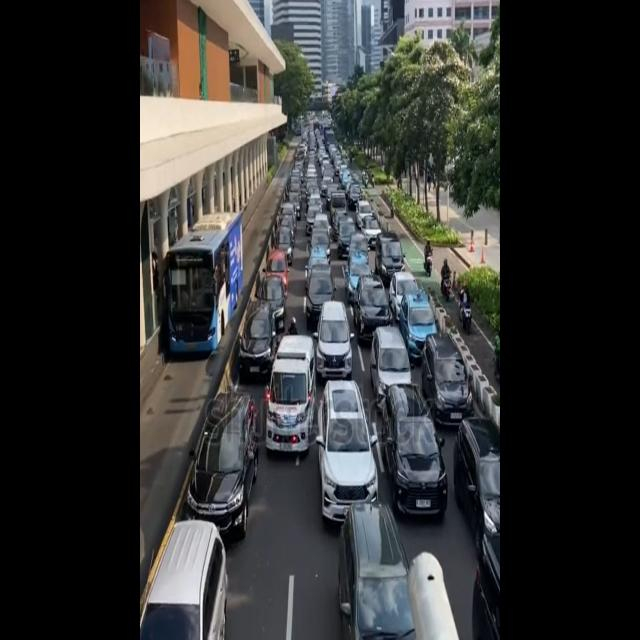Ambulance: (265, 330, 318, 458)
